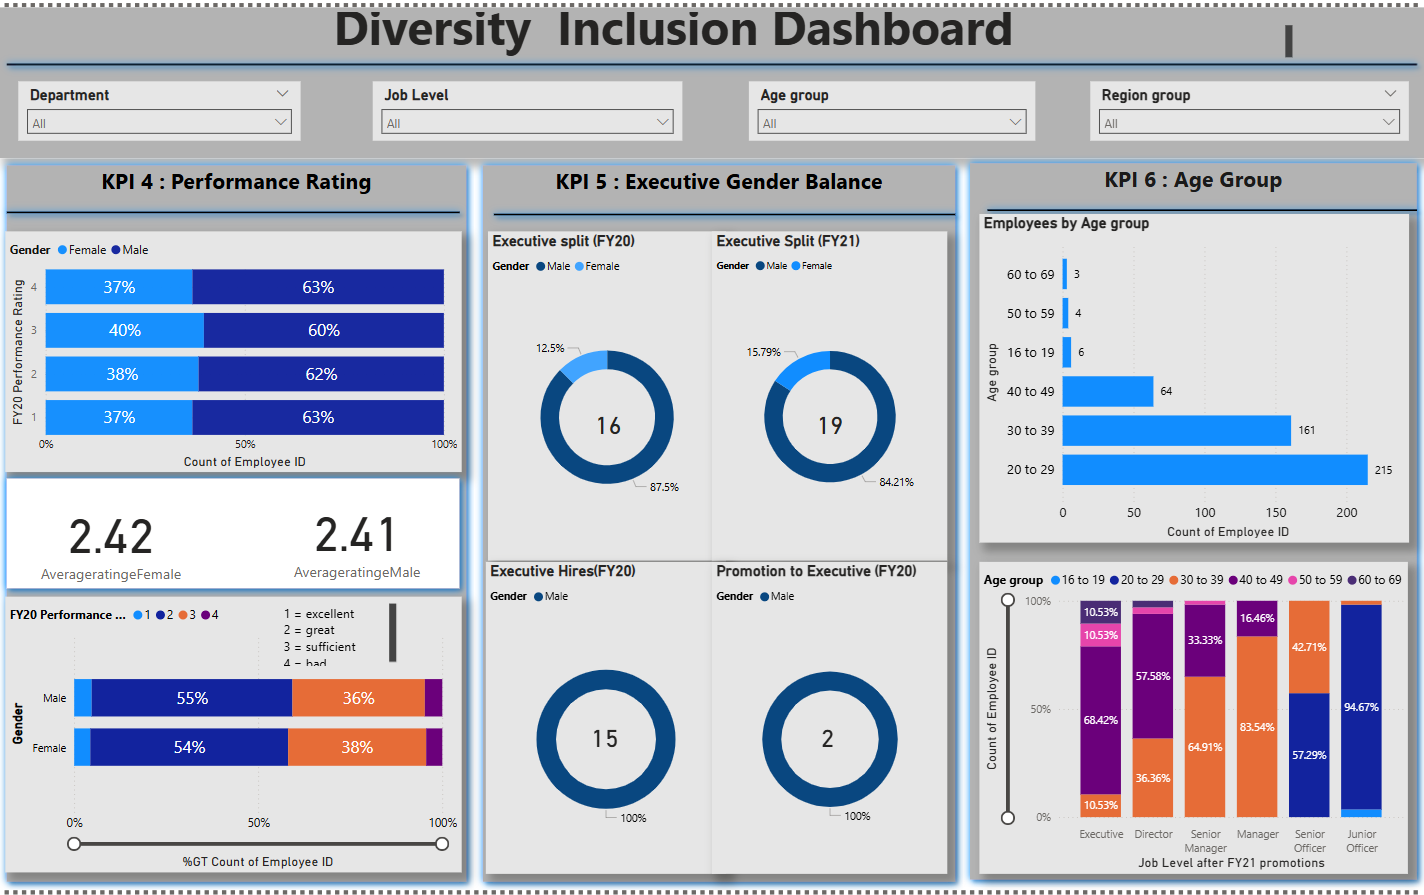

What the dashboard file says about the page in this screenshot:
{"tool":"powerbi","page":{"name":"Page 2","canvas":[1600,990],"ordinal":1},"visuals":[{"type":"shape","box":[0,0,1600,169],"z":0},{"type":"shape","box":[0,169,533.3,821.4],"z":1000},{"type":"shape","box":[1081,166.7,519,821.4],"z":2000},{"type":"textbox","box":[419.1,0,521.6,61.5],"z":3000},{"type":"slicer","fields":{"Values":["at 2020.FUNCTION"]},"box":[21.4,83.3,316.7,66.7],"z":4000},{"type":"slicer","fields":{"Values":["Job Levels.RANKING"]},"box":[419,83.3,347.6,66.7],"z":5000},{"type":"slicer","fields":{"Values":["Pharma Group AG.Age group"]},"box":[840.5,83.3,321.4,66.7],"z":6000},{"type":"slicer","fields":{"Values":["Pharma Group AG.Region group: nationality 1"]},"box":[1223.8,83.3,357.1,66.7],"z":7000},{"type":"shape","box":[0,207.1,526.2,45.2],"z":8000},{"type":"hundredPercentStackedBarChart","fields":{"Category":["Pharma Group AG.FY20 Performance Rating"],"Y":["CountNonNull(Pharma Group AG.Employee ID)"],"Series":["Pharma Group AG.Gender"]},"box":[7.1,252.4,511.9,269],"z":9000},{"type":"shape","box":[7.1,521.4,526.2,140.5],"z":10000},{"type":"card","fields":{"Values":["Backing 2 (2).AverageratingeFemale"]},"box":[38.7,542.1,173.1,109.3],"z":11000},{"type":"shape","box":[533.3,169,547.6,821.4],"z":12000},{"type":"card","fields":{"Values":["Backing 2 (2).AverageratingeMale"]},"box":[314.3,538.1,173.8,109.5],"z":13000},{"type":"hundredPercentStackedBarChart","fields":{"Category":["Pharma Group AG.Gender"],"Series":["Pharma Group AG.FY20 Performance Rating"],"Y":["CountNonNull(Pharma Group AG.Employee ID)"]},"box":[7.1,661.9,511.9,309.5],"z":14000},{"type":"shape","box":[545.2,207.1,535.7,50],"z":15000},{"type":"shape","box":[1100,202.4,500,50],"z":16000},{"type":"donutChart","title":"Executive split (FY20) ","fields":{"Category":["Pharma Group AG.Gender"],"Y":["CountNonNull(at 2020.Employee ID)"]},"box":[547.6,252.4,266.7,369],"z":17000},{"type":"donutChart","title":"Executive Split (FY21)","fields":{"Category":["Pharma Group AG.Gender"],"Y":["CountNonNull(Pharma Group AG.Employee ID)"]},"box":[800,252.4,264.3,369],"z":18000},{"type":"donutChart","title":"Executive Hires(FY20) ","fields":{"Category":["Pharma Group AG.Gender"],"Y":["CountNonNull(at 2020.Employee ID)"]},"box":[545.2,621.4,269,350],"z":19000},{"type":"donutChart","title":"Promotion to Executive (FY20) ","fields":{"Category":["Pharma Group AG.Gender"],"Y":["CountNonNull(at 2020.Employee ID)"]},"box":[800,621.4,264.3,350],"z":20000},{"type":"barChart","title":" Employees by Age group","fields":{"Category":["Pharma Group AG.Age group"],"Y":["CountNonNull(Pharma Group AG.Employee ID)"]},"box":[1100,233.3,481,369],"z":21000},{"type":"hundredPercentStackedColumnChart","fields":{"Category":["Pharma Group AG.Job Level after FY21 promotions"],"Y":["CountNonNull(Pharma Group AG.Employee ID)"],"Series":["Pharma Group AG.Age group"]},"box":[1100,621.4,481,350],"z":22000},{"type":"shape","box":[0,38.1,1600,50],"z":23000},{"type":"textbox","box":[314.3,662.8,136.7,79.7],"z":24000},{"type":"card","fields":{"Values":["CountNonNull(Pharma Group AG.Employee ID)"]},"box":[647.6,435.7,69,59.5],"z":25000},{"type":"card","fields":{"Values":["CountNonNull(Pharma Group AG.Employee ID)"]},"box":[895.2,792.9,69,50],"z":26000},{"type":"card","fields":{"Values":["CountNonNull(Pharma Group AG.Employee ID)"]},"box":[895.2,435.7,73.8,59.5],"z":27000},{"type":"card","fields":{"Values":["CountNonNull(Pharma Group AG.Employee ID)"]},"box":[642.9,792.9,71.4,50],"z":28000}]}

Visuals, with their boxes in screenshot pixels (x1, y1, x2, y2), scaled from the page's 1600x990 canvas onto the 1424x895 screenshot:
shape: <box>0,0,1423,153</box>
shape: <box>0,153,475,894</box>
shape: <box>962,151,1423,893</box>
textbox: <box>373,0,837,56</box>
slicer - at 2020.FUNCTION: <box>19,75,301,136</box>
slicer - Job Levels.RANKING: <box>373,75,682,136</box>
slicer - Pharma Group AG.Age group: <box>748,75,1034,136</box>
slicer - Pharma Group AG.Region group: nationality 1: <box>1089,75,1407,136</box>
shape: <box>0,187,468,228</box>
hundredPercentStackedBarChart - Pharma Group AG.FY20 Performance Rating x CountNonNull(Pharma Group AG.Employee ID): <box>6,228,462,471</box>
shape: <box>6,471,475,598</box>
card - Backing 2 (2).AverageratingeFemale: <box>34,490,189,589</box>
shape: <box>475,153,962,894</box>
card - Backing 2 (2).AverageratingeMale: <box>280,486,434,585</box>
hundredPercentStackedBarChart - Pharma Group AG.Gender x Pharma Group AG.FY20 Performance Rating: <box>6,598,462,878</box>
shape: <box>485,187,962,232</box>
shape: <box>979,183,1423,228</box>
"Executive split (FY20) " donutChart: <box>487,228,725,562</box>
"Executive Split (FY21)" donutChart: <box>712,228,947,562</box>
"Executive Hires(FY20) " donutChart: <box>485,562,725,878</box>
"Promotion to Executive (FY20) " donutChart: <box>712,562,947,878</box>
" Employees by Age group" barChart: <box>979,211,1407,545</box>
hundredPercentStackedColumnChart - Pharma Group AG.Job Level after FY21 promotions x CountNonNull(Pharma Group AG.Employee ID): <box>979,562,1407,878</box>
shape: <box>0,34,1423,80</box>
textbox: <box>280,599,401,671</box>
card - CountNonNull(Pharma Group AG.Employee ID): <box>576,394,638,448</box>
card - CountNonNull(Pharma Group AG.Employee ID): <box>797,717,858,762</box>
card - CountNonNull(Pharma Group AG.Employee ID): <box>797,394,862,448</box>
card - CountNonNull(Pharma Group AG.Employee ID): <box>572,717,636,762</box>
